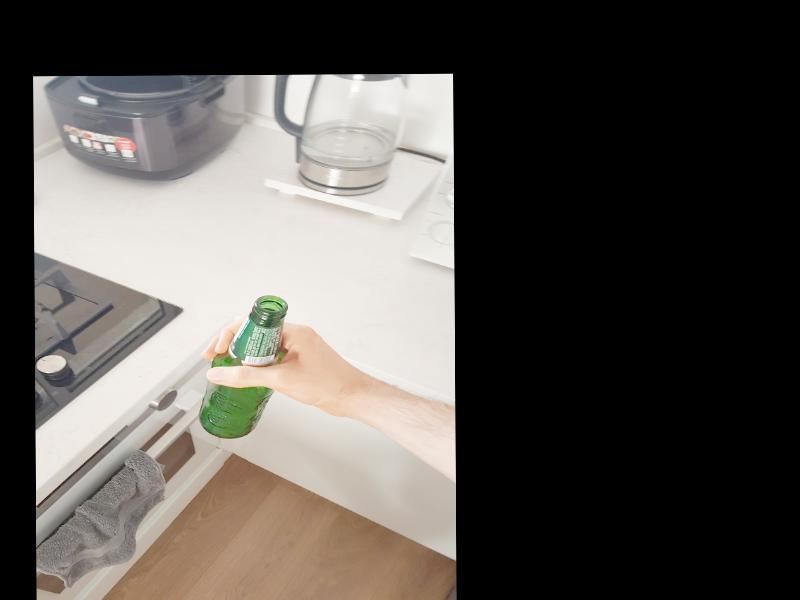Beer: (197, 296, 289, 440)
